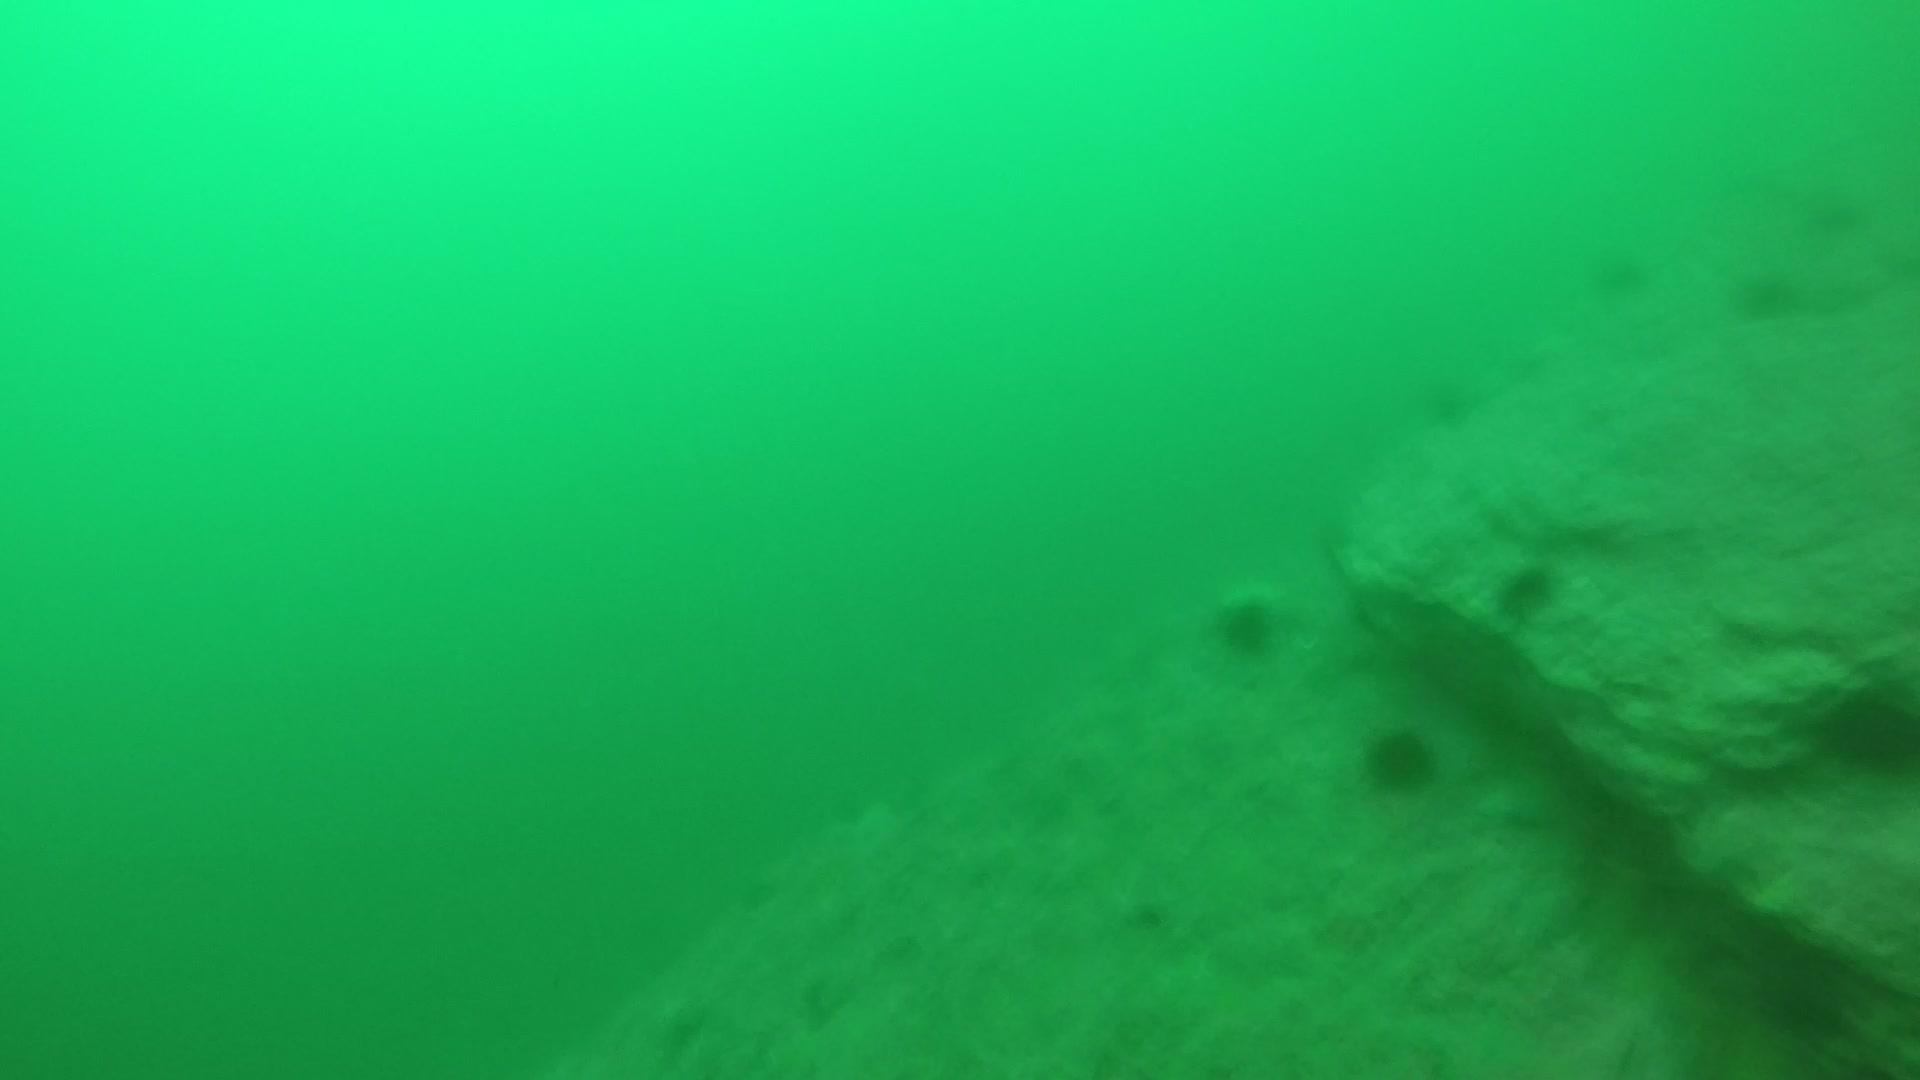echinus: (1815, 673, 1919, 779), (1357, 719, 1443, 796), (1209, 589, 1284, 659), (1490, 556, 1564, 622), (1731, 262, 1804, 324), (1584, 240, 1654, 301), (1422, 369, 1491, 430)
